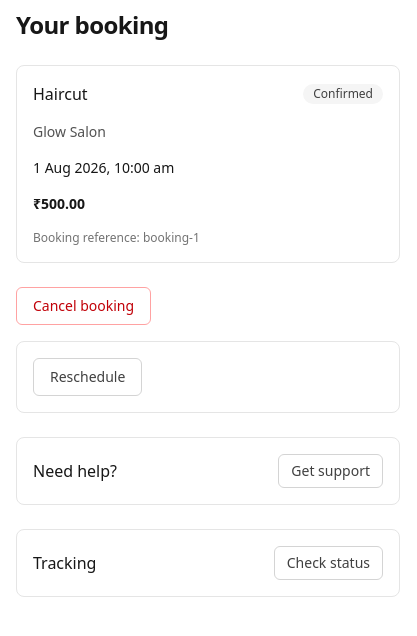
Test: BookingStatusPage › displays a phone contact when that is what the real response returns
Click the button "Get support".
click(331, 471)  # box 278,454 -> 383,488
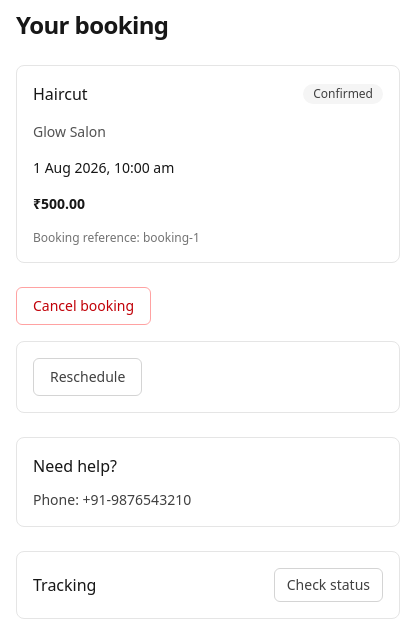
expect the text "Phone: +91-9876543210" is shown: met, box 33,490 -> 191,509
